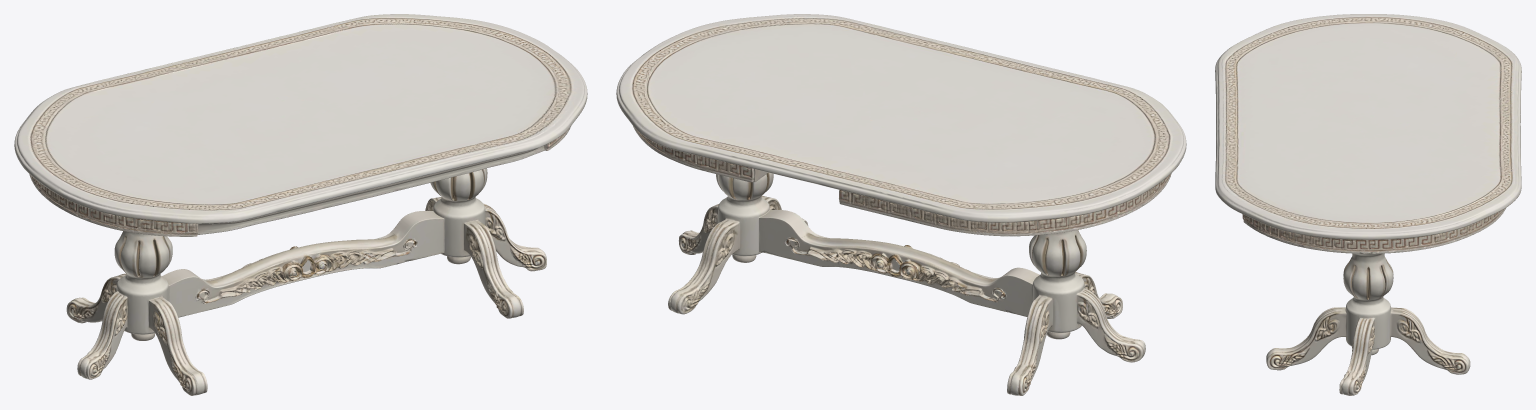
File: Caeser.glb
3 views of the same model, side by side, from view 1: azimuth 30°, elevation 25°; view 2: azimuth 150°, elevation 25°; view 3: azimuth 270°, elevation 25° (orthographic). The views are drawn at different scales.
Visible parts, largest first — view 1: tripo_node_2a55ed77-ea10-40b3-b285-ee58f7ed279e; view 2: tripo_node_2a55ed77-ea10-40b3-b285-ee58f7ed279e; view 3: tripo_node_2a55ed77-ea10-40b3-b285-ee58f7ed279e.
Part boxes in pixels (left/top/right/bottom): tripo_node_2a55ed77-ea10-40b3-b285-ee58f7ed279e: left=14, top=14, right=587, bottom=395; tripo_node_2a55ed77-ea10-40b3-b285-ee58f7ed279e: left=616, top=14, right=1186, bottom=395; tripo_node_2a55ed77-ea10-40b3-b285-ee58f7ed279e: left=1215, top=14, right=1521, bottom=395.
Size of the model in its own units: 0.9793 by 0.3665 by 0.5722.
Materials: 1 (1 with a texture image).
